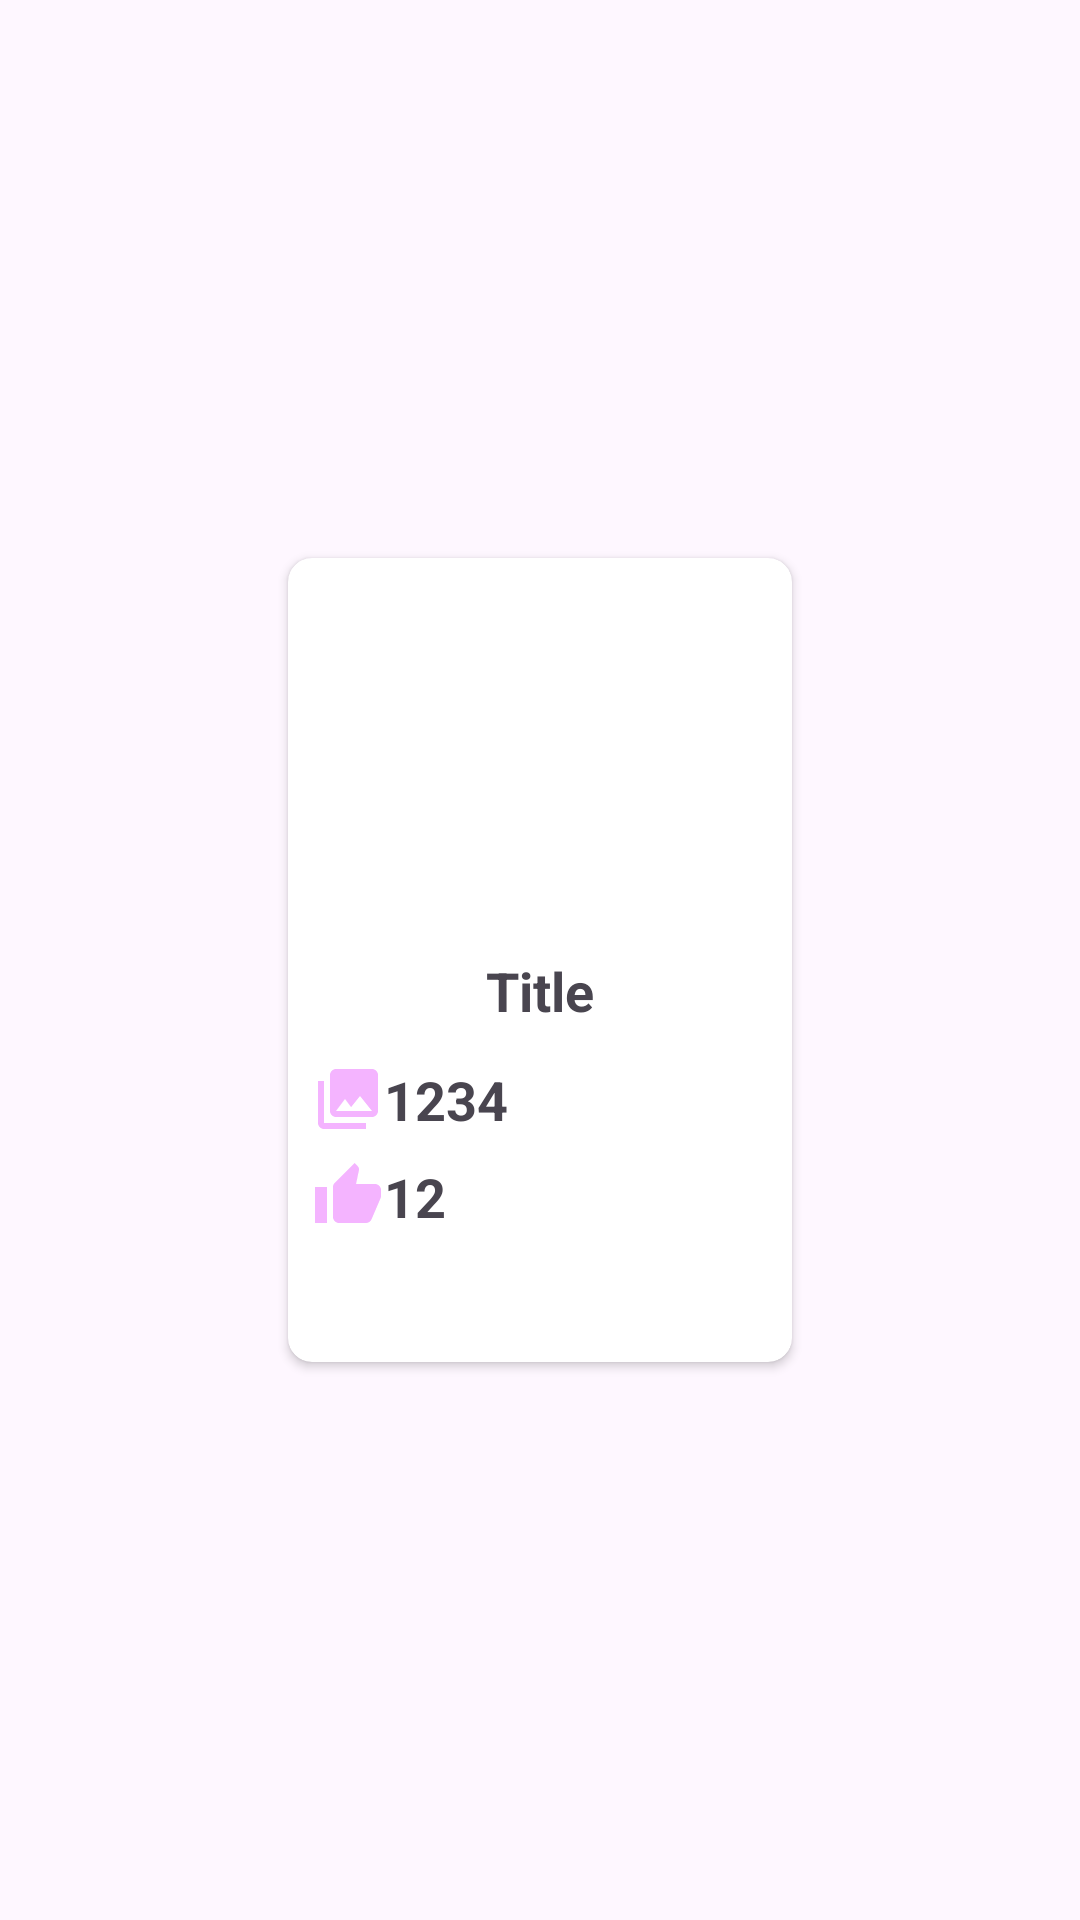

Where to tap for icons on this 1080 x 1920 app screen, as (x,y):
like: (348,1193)
photos: (348,1099)
